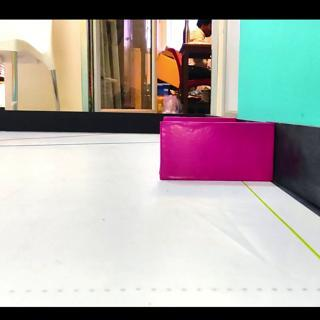xparking: (162, 123, 267, 181)
